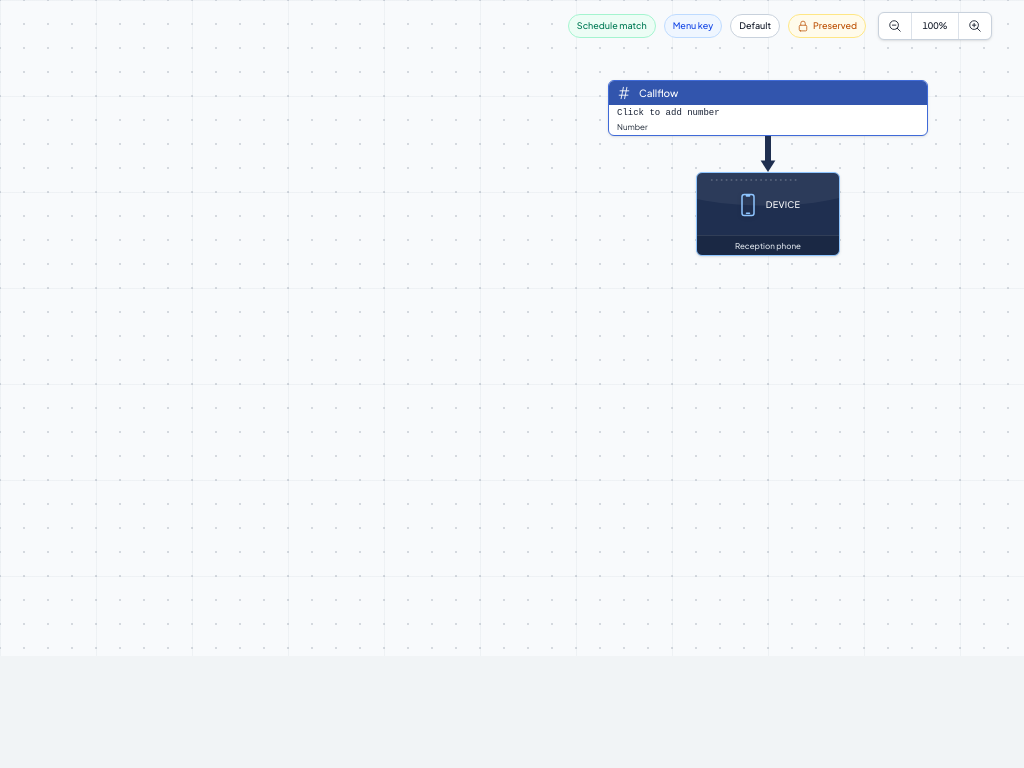
Test: CallflowDiagram › zooms the node canvas independently and resets to 100 percent
Check: the element named "Canvas zoom controls" reads "100%", box [911,13,959,39]
Click the button named "Zoom in".
click(975, 26)  # box [959,13,991,39]
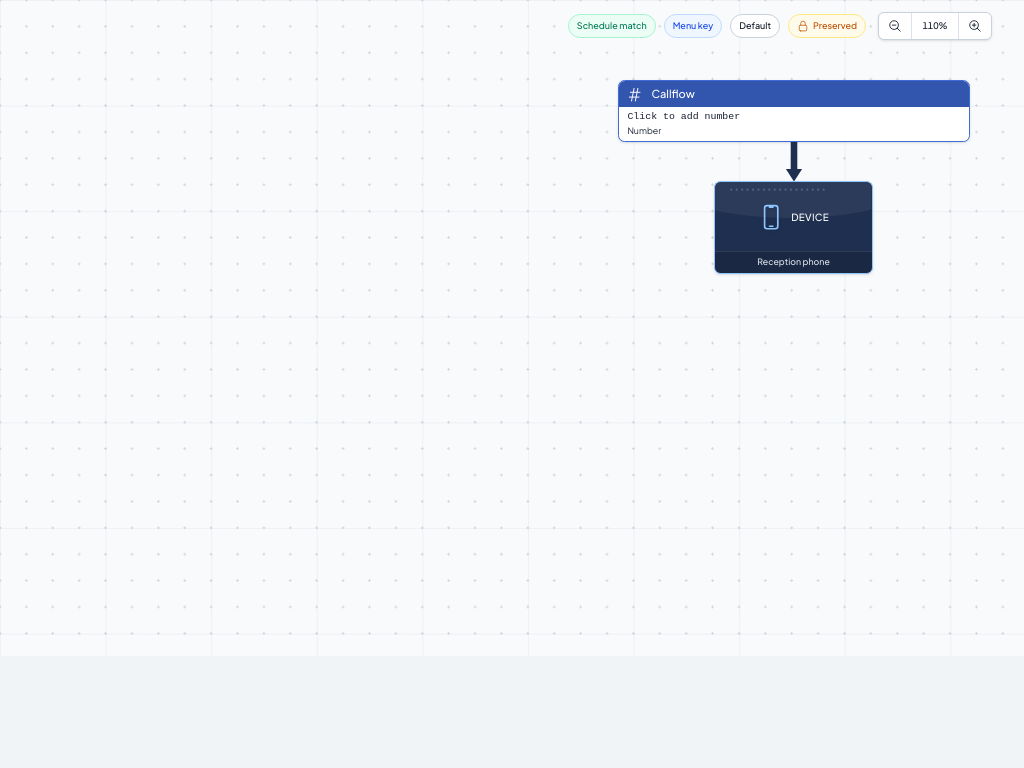
Check: the element named "Canvas zoom controls" reads "110%", box [911,13,959,39]
Click the button named "Zoom out".
click(895, 26)  # box [879,13,911,39]
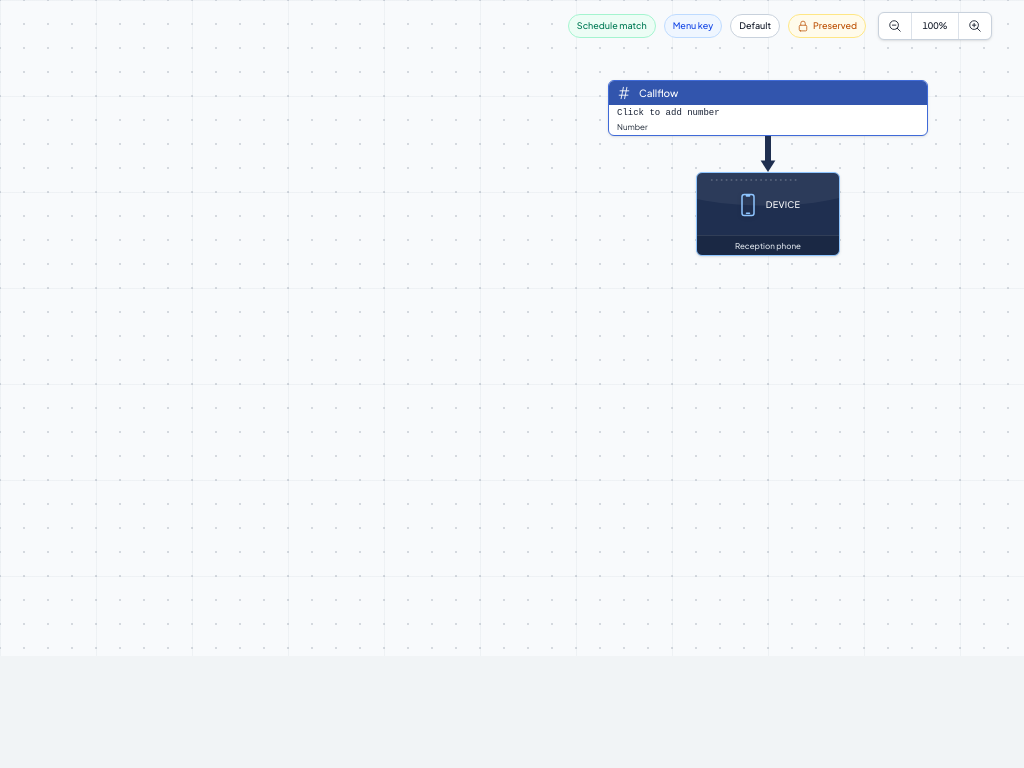
Click the button named "Zoom out".
click(895, 26)  # box [879,13,911,39]
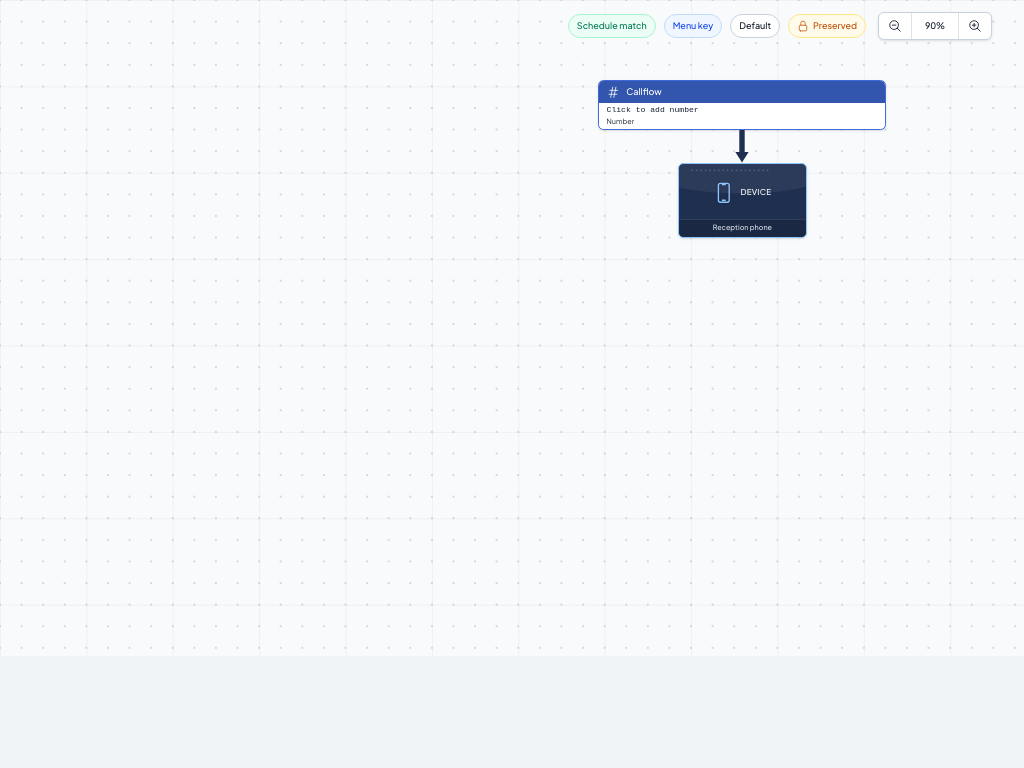
Check: the element named "Canvas zoom controls" reads "90%"
Click the button named "Reset canvas zoom".
click(935, 26)  # box [911,13,959,39]
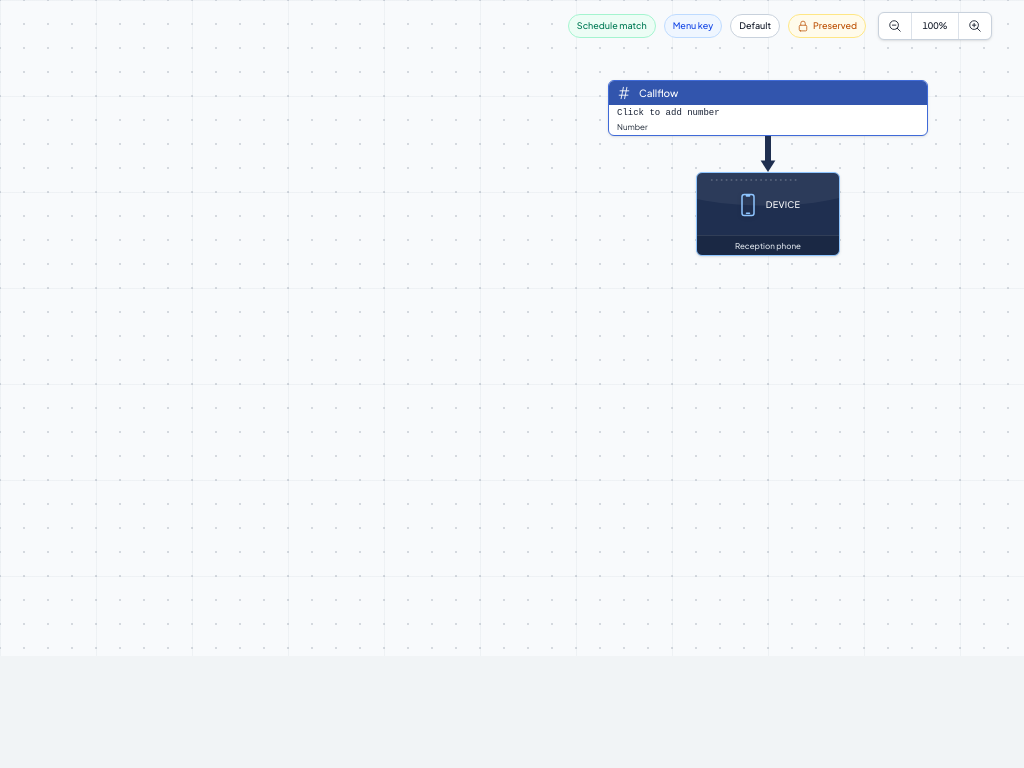
Check: the element named "Canvas zoom controls" reads "100%", box [911,13,959,39]
